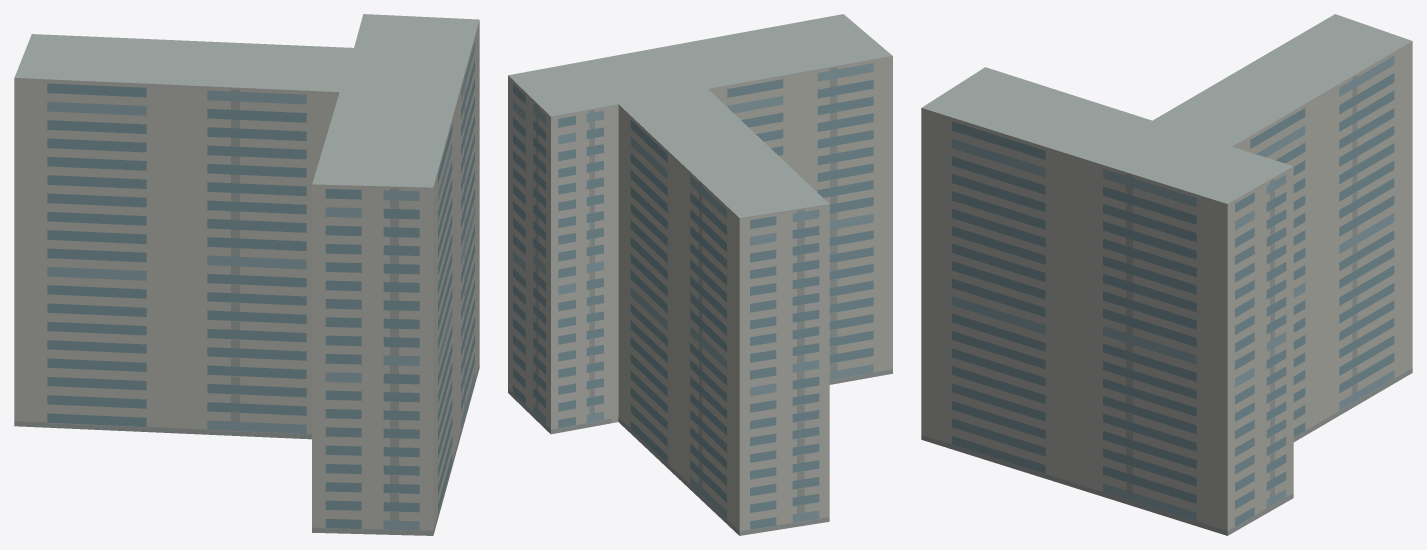
Rendered from residential-5d4830e4-c8e6-484b-9c53-1b9e372bc691.glb.
3 views of the same model, side by side, from view 1: azimuth 30°, elevation 25°; view 2: azimuth 150°, elevation 25°; view 3: azimuth 270°, elevation 25° (orthographic). The views are drawn at different scales.
Visible parts, largest first — view 1: residential-5d4830e4-c8e6-484b-9c53-1b9e372bc691.tmp; view 2: residential-5d4830e4-c8e6-484b-9c53-1b9e372bc691.tmp; view 3: residential-5d4830e4-c8e6-484b-9c53-1b9e372bc691.tmp.
Boxes of the visible parts, bbox=[...] form: residential-5d4830e4-c8e6-484b-9c53-1b9e372bc691.tmp: bbox=[14, 14, 479, 535]; residential-5d4830e4-c8e6-484b-9c53-1b9e372bc691.tmp: bbox=[508, 14, 892, 535]; residential-5d4830e4-c8e6-484b-9c53-1b9e372bc691.tmp: bbox=[921, 14, 1412, 535].
Size of the model in its own units: 62.64 by 51 by 68.42.
